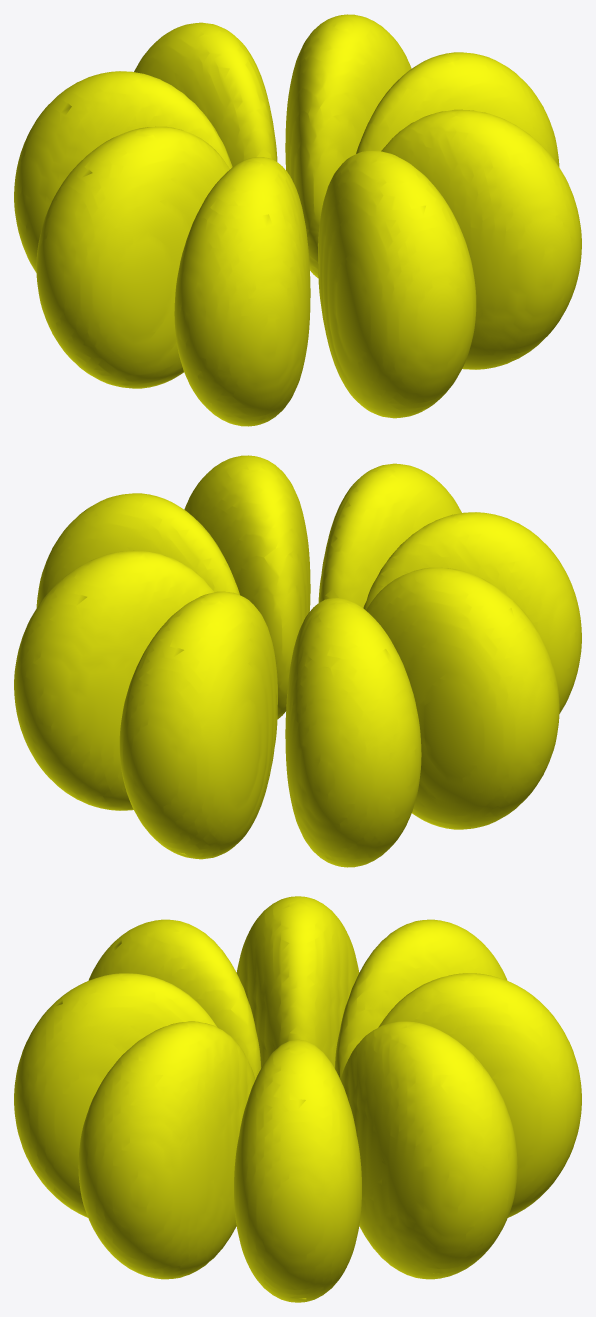
The model's file is orb_n=5_ l=4 _m=4.fbx.
3 views of the same model, one above another, from view 1: azimuth 30°, elevation 25°; view 2: azimuth 150°, elevation 25°; view 3: azimuth 270°, elevation 25° (orthographic). The views are drawn at different scales.
Parts seen in each view (by area): view 1: orb_n=5_ l=4 _m=4; view 2: orb_n=5_ l=4 _m=4; view 3: orb_n=5_ l=4 _m=4.
Boxes of the visible parts, left/top/right/bottom form: orb_n=5_ l=4 _m=4: left=14, top=14, right=581, bottom=426; orb_n=5_ l=4 _m=4: left=14, top=455, right=581, bottom=867; orb_n=5_ l=4 _m=4: left=14, top=896, right=581, bottom=1302.
Size of the model in its own units: 9913 by 4738 by 9913.
